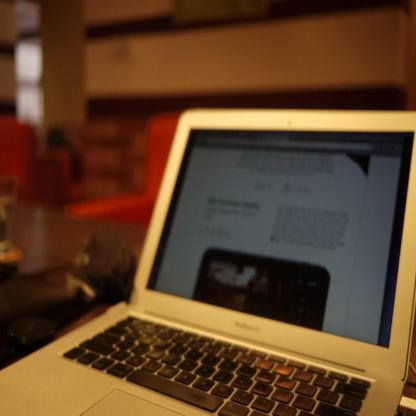board: (0, 108, 416, 416)
